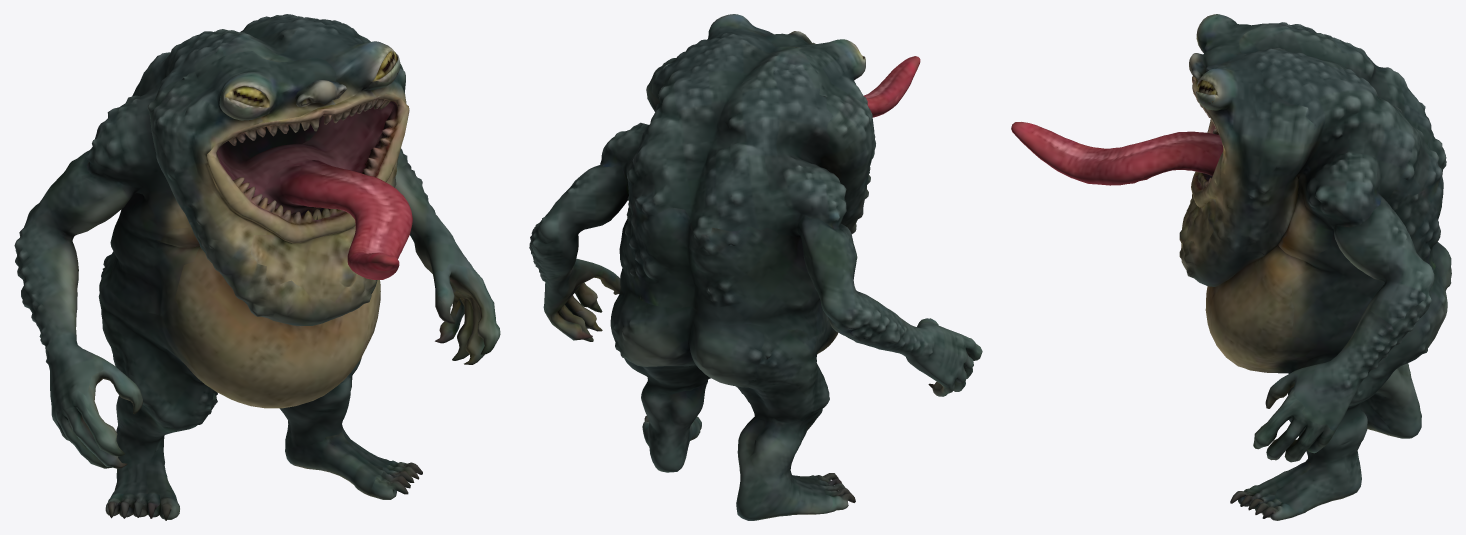
Rendered from MZ4250 - Banderhobb 2025.glb.
3 renders of one model, left to right at view 1: azimuth 30°, elevation 25°; view 2: azimuth 150°, elevation 25°; view 3: azimuth 270°, elevation 25°, orthographic. The views are drawn at different scales.
Visible parts, largest first — view 1: Torso.001; view 2: Torso.001; view 3: Torso.001.
Boxes of the visible parts, x1,y1,x2,y2 form: Torso.001: (14, 14, 500, 520); Torso.001: (529, 14, 982, 520); Torso.001: (1011, 14, 1451, 520).
Size of the model in its own units: 157 by 160 by 150.
1 material, 1 textured.
